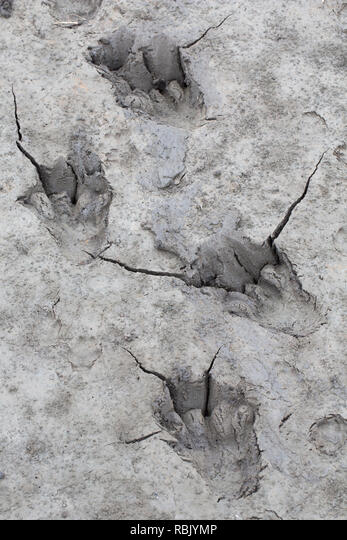beaver: (136, 371, 270, 503), (203, 238, 329, 343), (16, 144, 114, 268), (99, 40, 210, 123)
